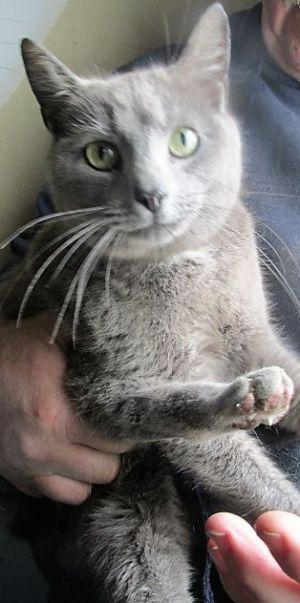rblue: (1, 1, 269, 271)
